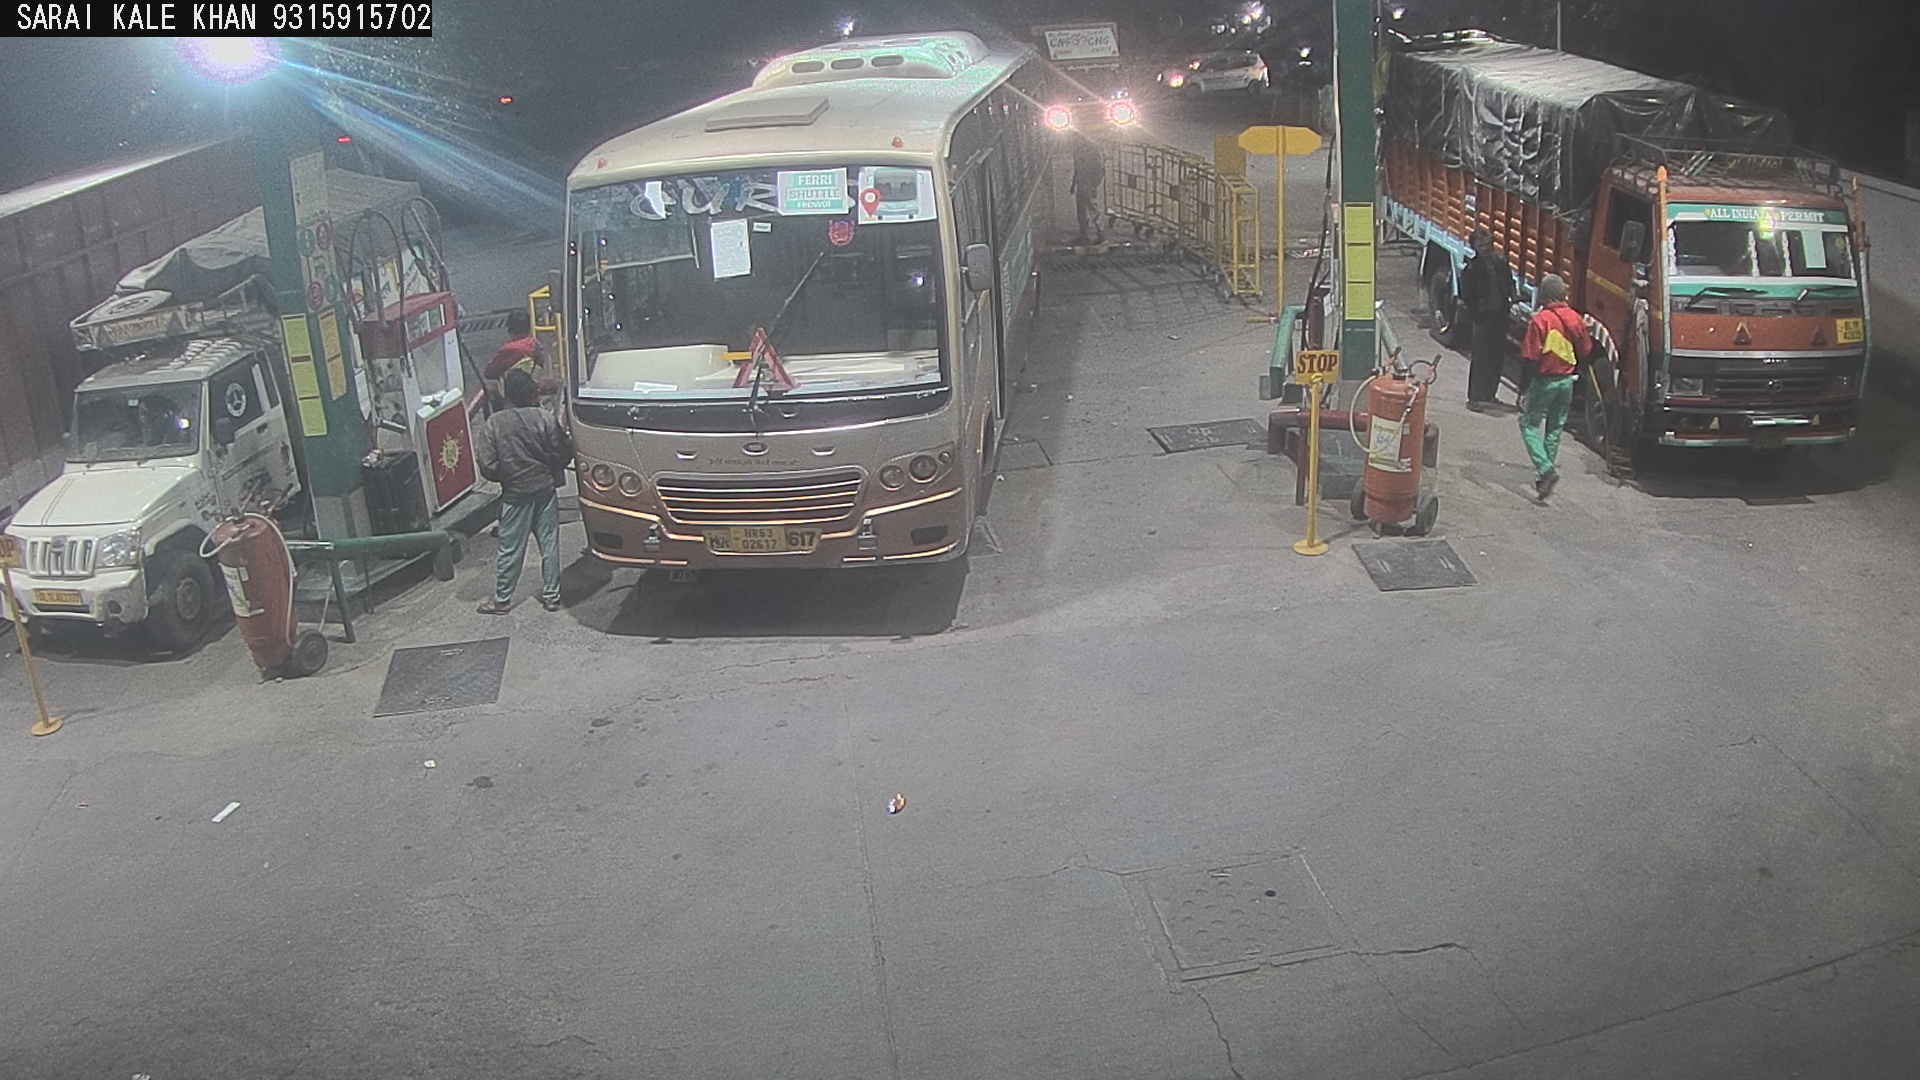Car: (1145, 34, 1295, 116)
HMV: (522, 13, 1077, 620), (1366, 1, 1915, 500), (0, 185, 313, 673), (1, 95, 266, 620), (1009, 5, 1158, 167)
Others: (458, 285, 571, 531), (1501, 260, 1607, 513)
Others Other: (1275, 330, 1348, 568), (0, 524, 70, 746)
